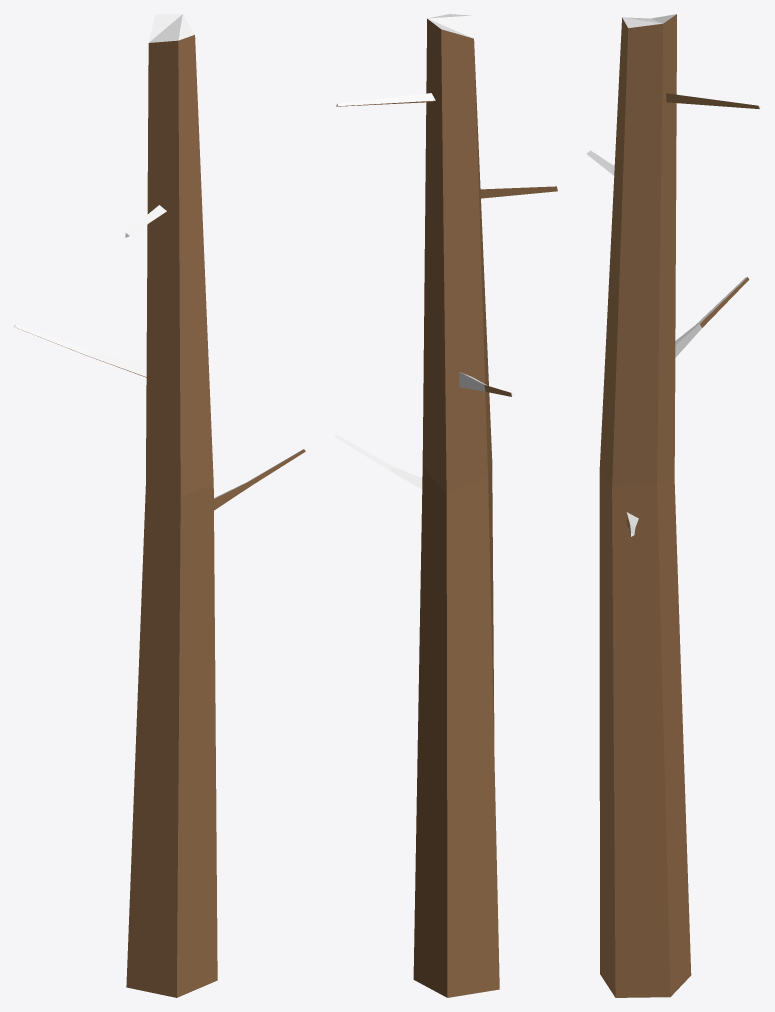
The model's file is Pine_Tree_NoLeaves_crk_l_Snow_01.fbx.
The picture shows the model from 3 angles, left to right: view 1: azimuth 30°, elevation 25°; view 2: azimuth 150°, elevation 25°; view 3: azimuth 270°, elevation 25°; orthographic projection.
Visible parts, largest first — view 1: Pine_Tree_NoLeaves_crk_l_Snow_01; view 2: Pine_Tree_NoLeaves_crk_l_Snow_01; view 3: Pine_Tree_NoLeaves_crk_l_Snow_01.
Part boxes in pixels (x1,y1,x2,y2): Pine_Tree_NoLeaves_crk_l_Snow_01: (14, 14, 305, 997); Pine_Tree_NoLeaves_crk_l_Snow_01: (334, 14, 557, 997); Pine_Tree_NoLeaves_crk_l_Snow_01: (586, 14, 760, 997).
Size of the model in its own units: 204 by 788 by 129.
